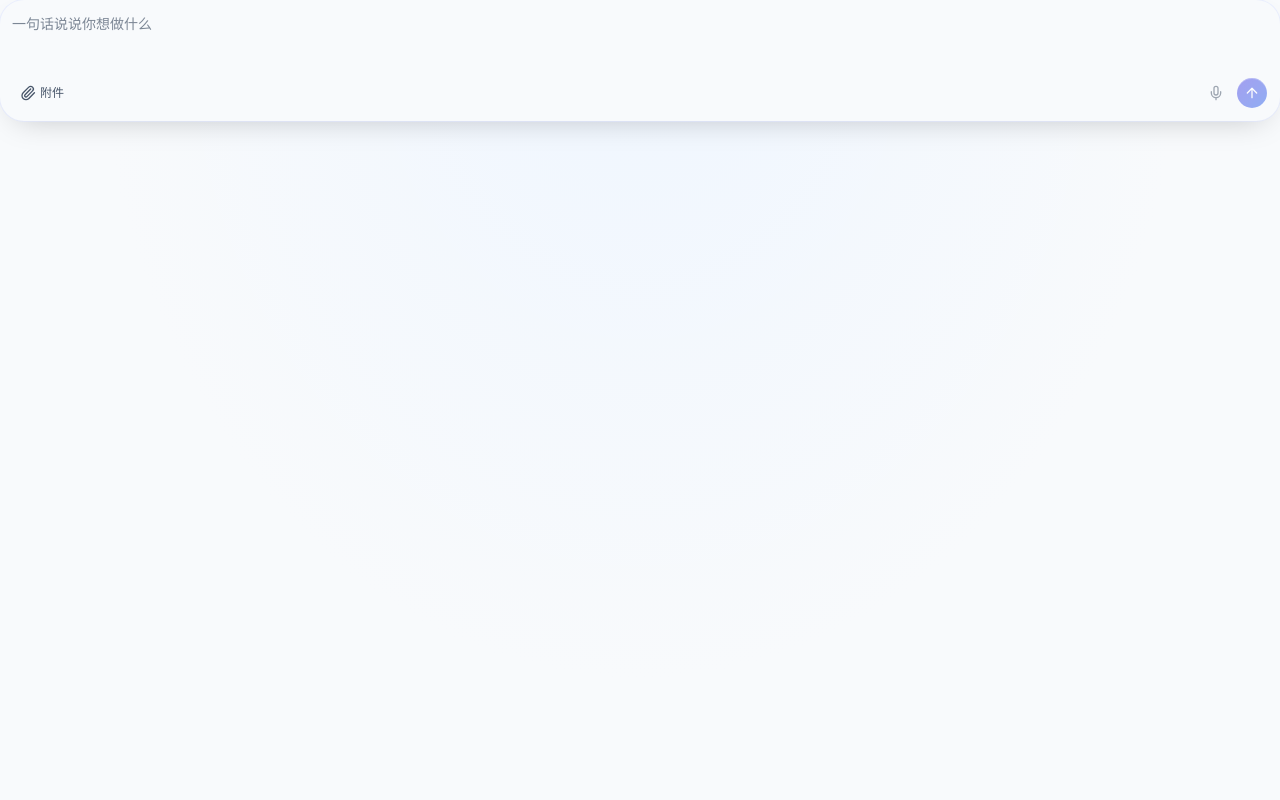
Test: Composer · 真上传（#286：uploadFile 管道） › 上传管道就位时：accept 收五格式、物料区文案如实（格式与上限）
The width and height of the screenshot is (1280, 800).
Click the button "附件": [42, 92] box x1=12 y1=78 x2=72 y2=106
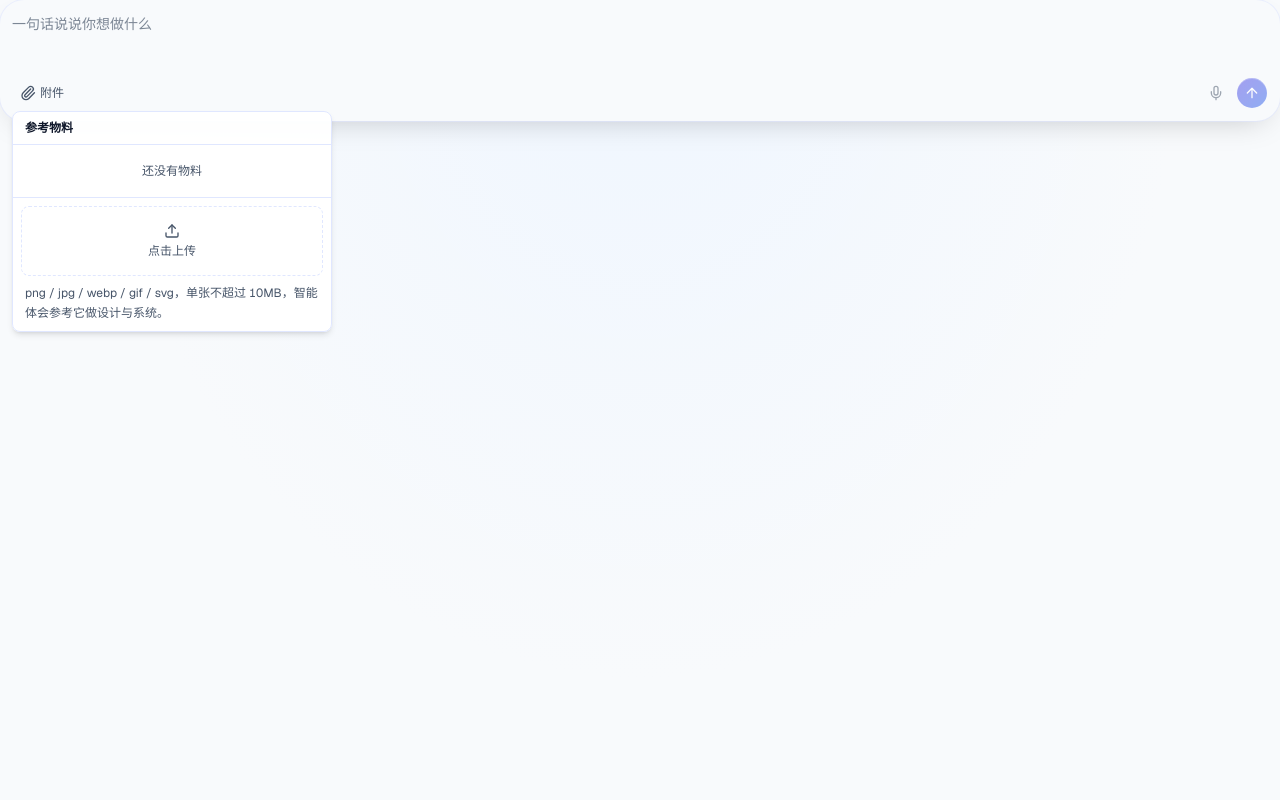
expect the text "png / jpg / webp / gif / svg，单张不超过 10MB，智能体会参考它做设计与系统。" is shown: met, box x1=21 y1=276 x2=323 y2=323
